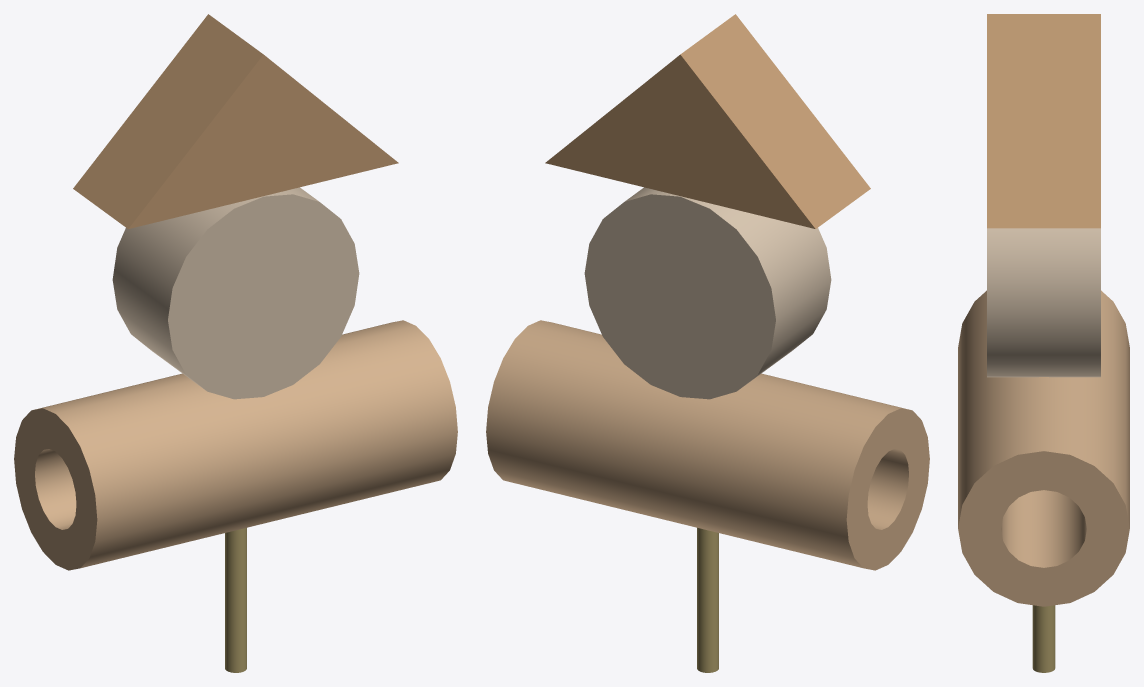
Rendered from ODEN2.fbx.
3 renders of one model, left to right at view 1: azimuth 30°, elevation 25°; view 2: azimuth 150°, elevation 25°; view 3: azimuth 270°, elevation 25°, orthographic. The views are drawn at different scales.
Visible parts, largest first — view 1: pCylinder5; view 2: pCylinder5; view 3: pCylinder5.
Boxes of the visible parts, box(x1,y1,x2,y2) form: pCylinder5: box(14, 14, 457, 672); pCylinder5: box(486, 14, 929, 672); pCylinder5: box(958, 14, 1129, 672).
Bounding box in the file's own units: 3.77 × 6.33 × 1.51.
Materials: 1 (1 with a texture image).
